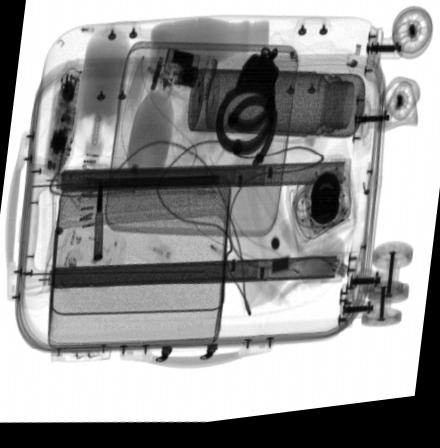Bullet: (91, 180, 103, 263)
HandCuffs: (215, 52, 280, 177)
